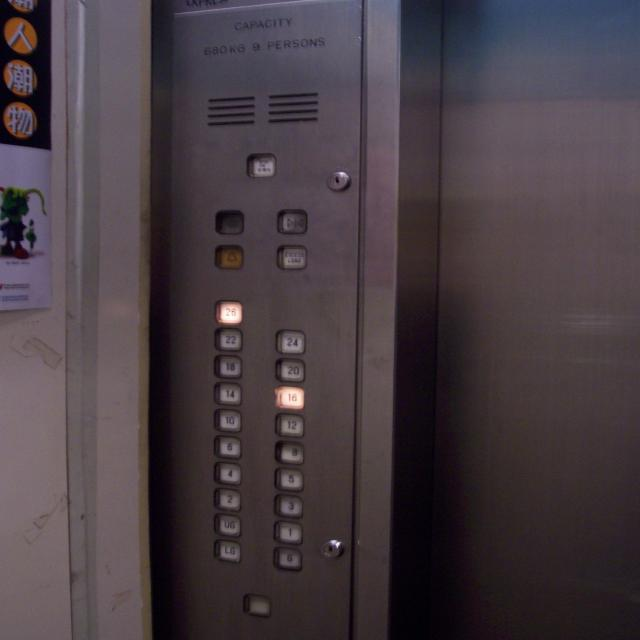1: (273, 519, 302, 545)
10: (214, 407, 242, 432)
12: (274, 412, 306, 438)
14: (214, 380, 242, 406)
16: (274, 384, 306, 408)
18: (213, 354, 244, 378)
2: (213, 486, 242, 511)
20: (275, 358, 305, 382)
22: (213, 326, 243, 352)
24: (274, 329, 306, 355)
26: (213, 299, 244, 324)
3: (274, 494, 305, 518)
4: (214, 460, 242, 486)
5: (274, 467, 304, 491)
8: (275, 439, 305, 464), (214, 434, 243, 458)
G: (273, 546, 304, 570)
LG: (214, 537, 242, 563)
UG: (214, 512, 242, 537)
alarm: (212, 243, 245, 270)
blur: (212, 209, 245, 235)
close: (275, 208, 308, 234)
empty: (242, 591, 273, 618)
keyhole: (326, 170, 350, 191), (322, 540, 344, 558)
text_blur: (274, 244, 308, 272), (244, 152, 277, 178)
